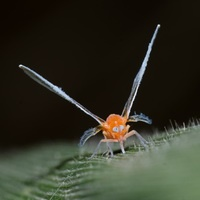insect: (19, 24, 159, 158)
